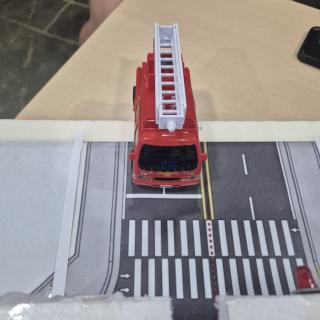Fire_truck: (129, 23, 207, 187)
